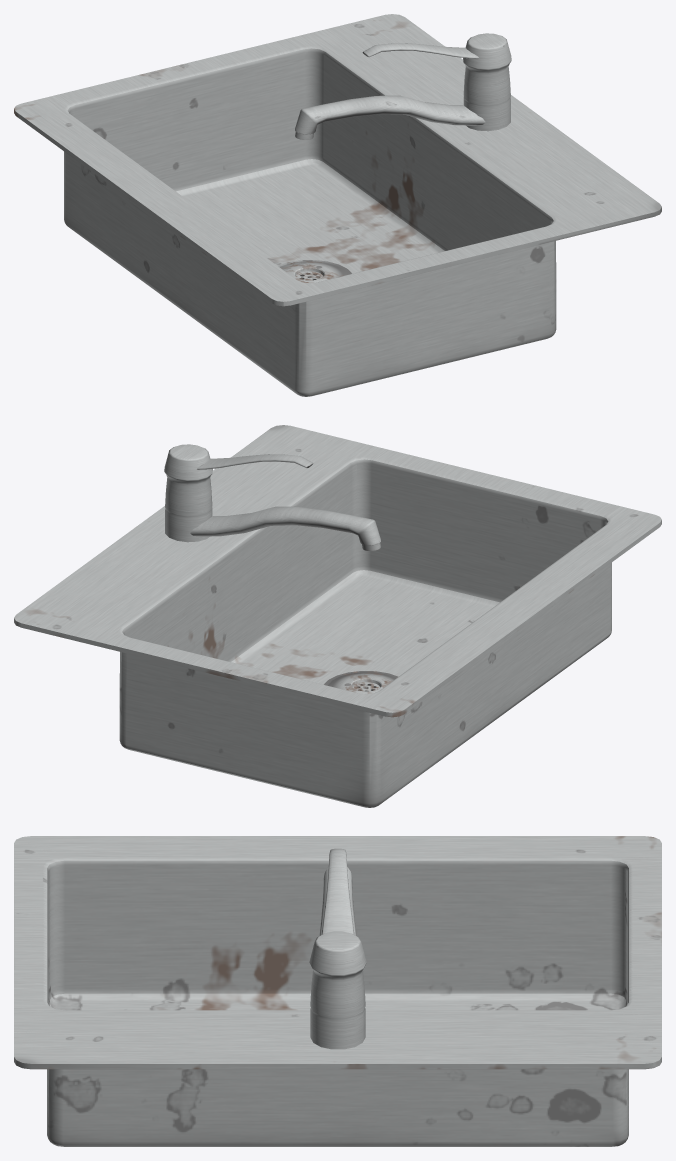
File: sink_and_faucet2.fbx
3 renders of one model, top to bottom at view 1: azimuth 30°, elevation 25°; view 2: azimuth 150°, elevation 25°; view 3: azimuth 270°, elevation 25°, orthographic. The views are drawn at different scales.
Visible parts, largest first — view 1: sink, new_faucet_02, new_faucet_tube, new_faucet_switch; view 2: sink, new_faucet_02, new_faucet_tube, new_faucet_switch; view 3: sink, new_faucet_02, new_faucet_switch, new_faucet_tube.
Boxes of the visible parts, box(x1,y1,x2,y2) form: sink: box(14, 14, 661, 396); new_faucet_02: box(463, 33, 511, 131); new_faucet_tube: box(295, 95, 485, 139); new_faucet_switch: box(362, 43, 478, 58); sink: box(14, 425, 661, 807); new_faucet_02: box(164, 444, 212, 542); new_faucet_tube: box(190, 506, 380, 550); new_faucet_switch: box(197, 454, 313, 469); sink: box(14, 836, 661, 1146); new_faucet_02: box(309, 931, 366, 1049); new_faucet_switch: box(321, 848, 354, 934); new_faucet_tube: box(319, 867, 356, 935).
Bounding box in the file's own units: 11196 × 6013 × 13457.
1 material, 1 textured.
